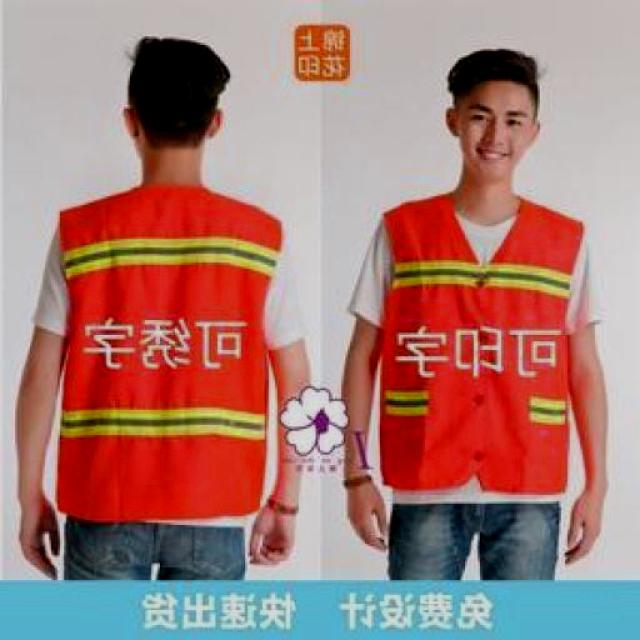face_nomask: (456, 99, 535, 172)
hand_noglove: (10, 491, 72, 580), (558, 487, 612, 568), (242, 502, 302, 572), (339, 477, 392, 554)
head_nohelmet: (118, 34, 226, 148), (448, 46, 543, 98)
person: (7, 35, 309, 580), (333, 41, 617, 580)
vest: (53, 181, 288, 519), (375, 194, 589, 495)
